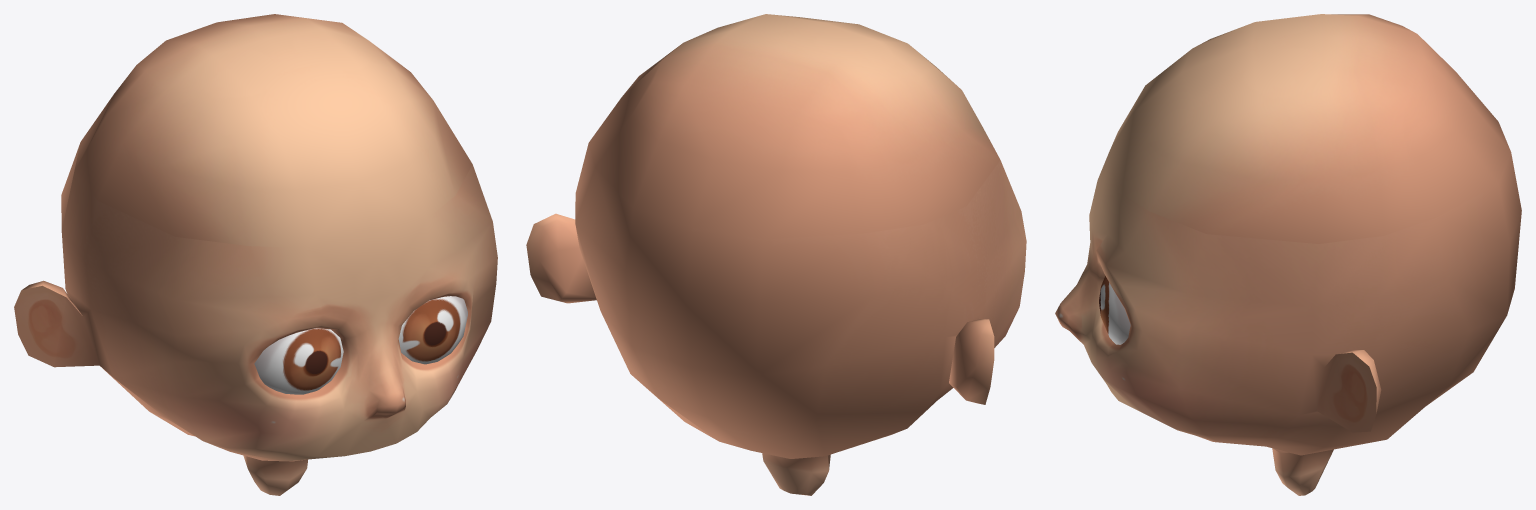
The model's file is roundHead.fbx.
The picture shows the model from 3 angles, left to right: view 1: azimuth 30°, elevation 25°; view 2: azimuth 150°, elevation 25°; view 3: azimuth 270°, elevation 25°; orthographic projection. The views are drawn at different scales.
Parts seen in each view (by area): view 1: roundHead; view 2: roundHead; view 3: roundHead.
Boxes of the visible parts, box(x1,y1,x2,y2) form: roundHead: box(14, 14, 497, 495); roundHead: box(526, 14, 1026, 495); roundHead: box(1055, 14, 1521, 495).
Bounding box in the file's own units: 41.04 × 38.89 × 35.99.
